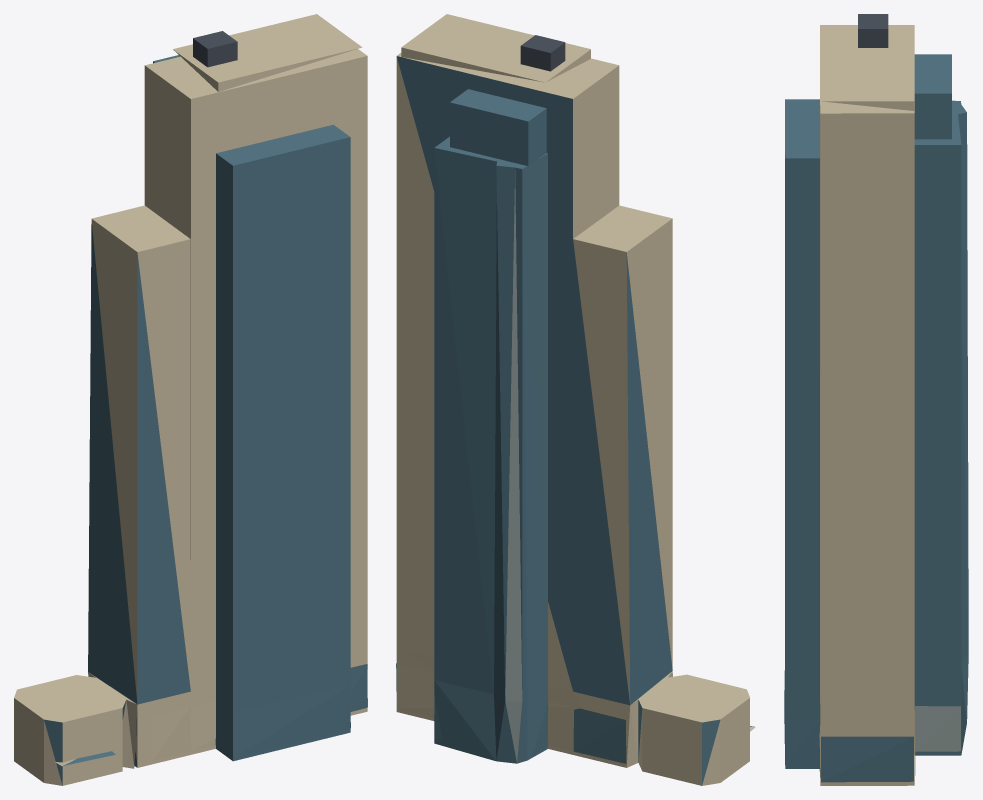
Rendered from mondriaan-tower.lod2.glb.
3 views of the same model, side by side, from view 1: azimuth 30°, elevation 25°; view 2: azimuth 150°, elevation 25°; view 3: azimuth 270°, elevation 25° (orthographic). The views are drawn at different scales.
Parts seen in each view (by area): view 1: lod2; view 2: lod2; view 3: lod2.
Boxes of the visible parts, x1,y1,x2,y2 form: lod2: (14, 14, 367, 785); lod2: (396, 14, 755, 785); lod2: (784, 14, 968, 785).
Size of the model in its own units: 59.26 by 122 by 29.17.
